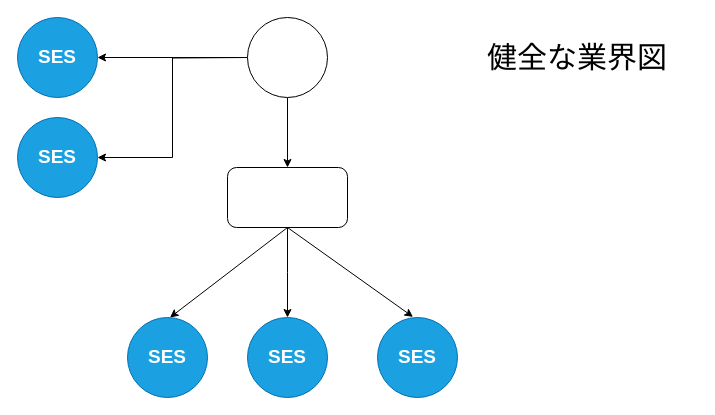
The diagram is 715 pixels wide and 415 high, and some of its shapes have lost their labels. Each missing label, with the centre of its shape:
SIer: pixel 287 197
発注者: pixel 287 57
